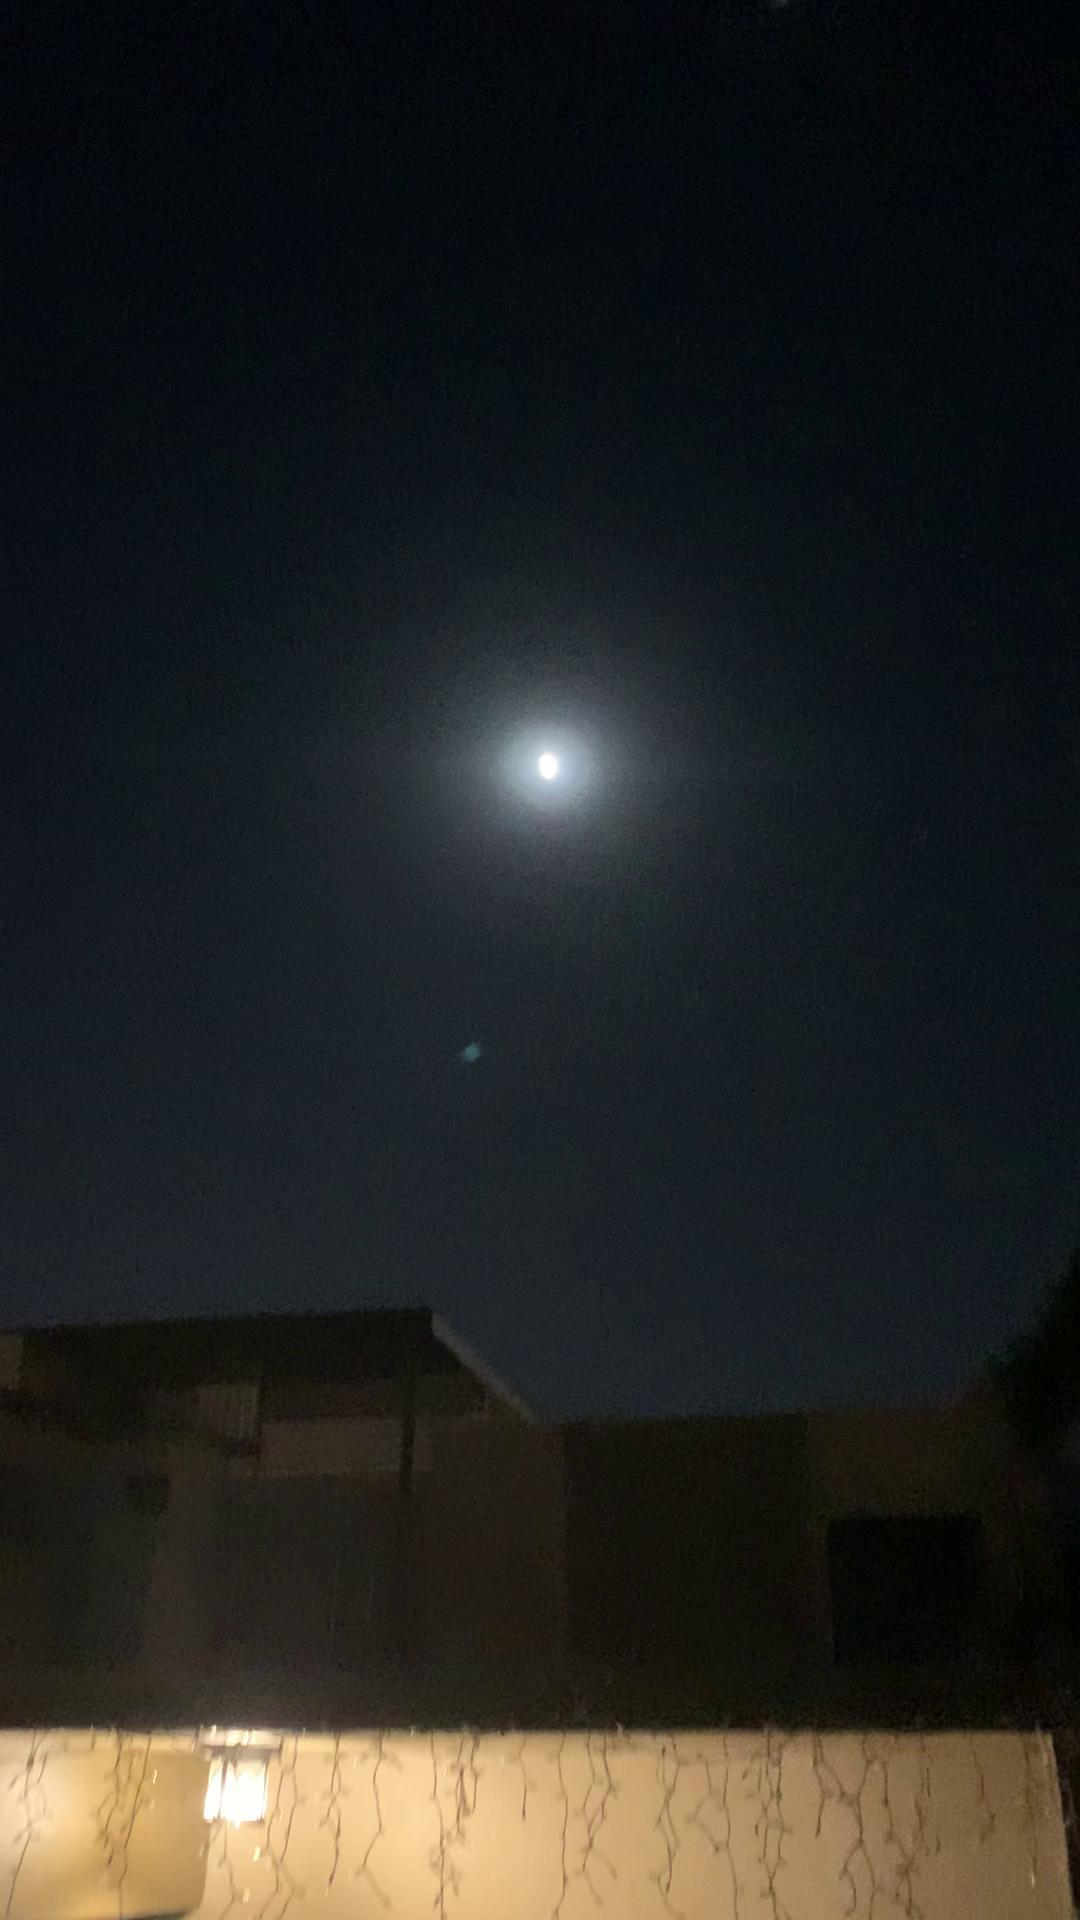moon: (516, 728, 603, 803)
